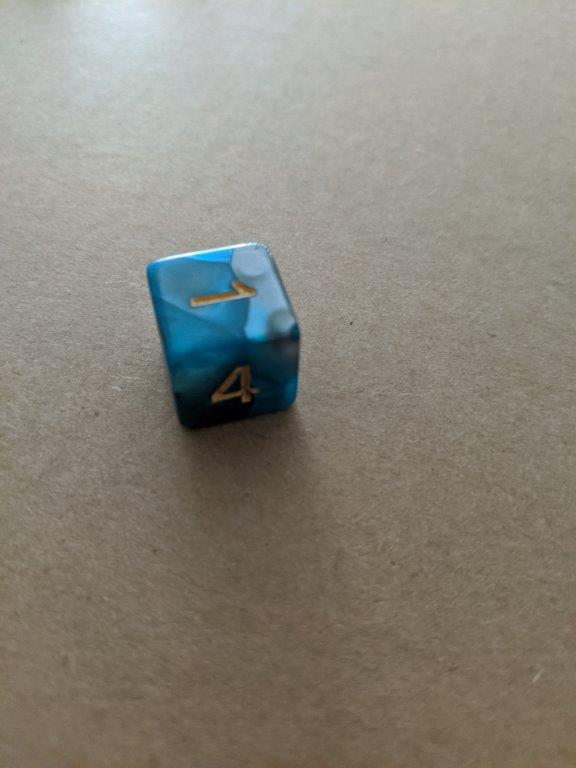d6-1: (145, 240, 301, 431)
